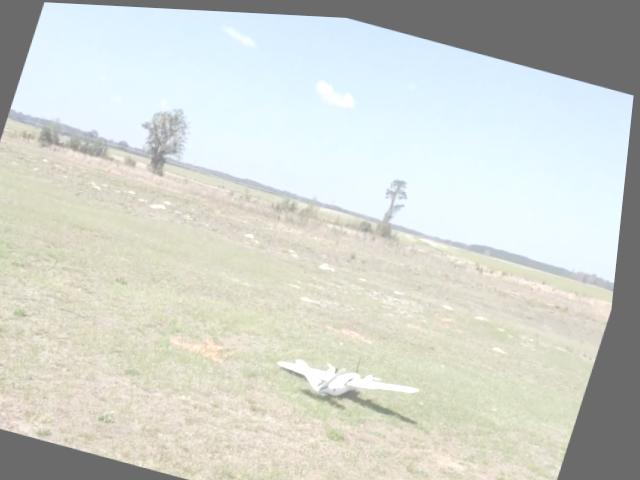plane: (274, 344, 431, 422)
